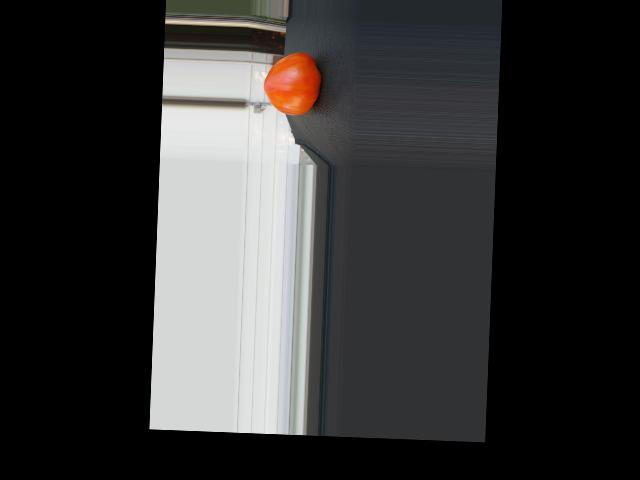tomato: (262, 51, 322, 116)
